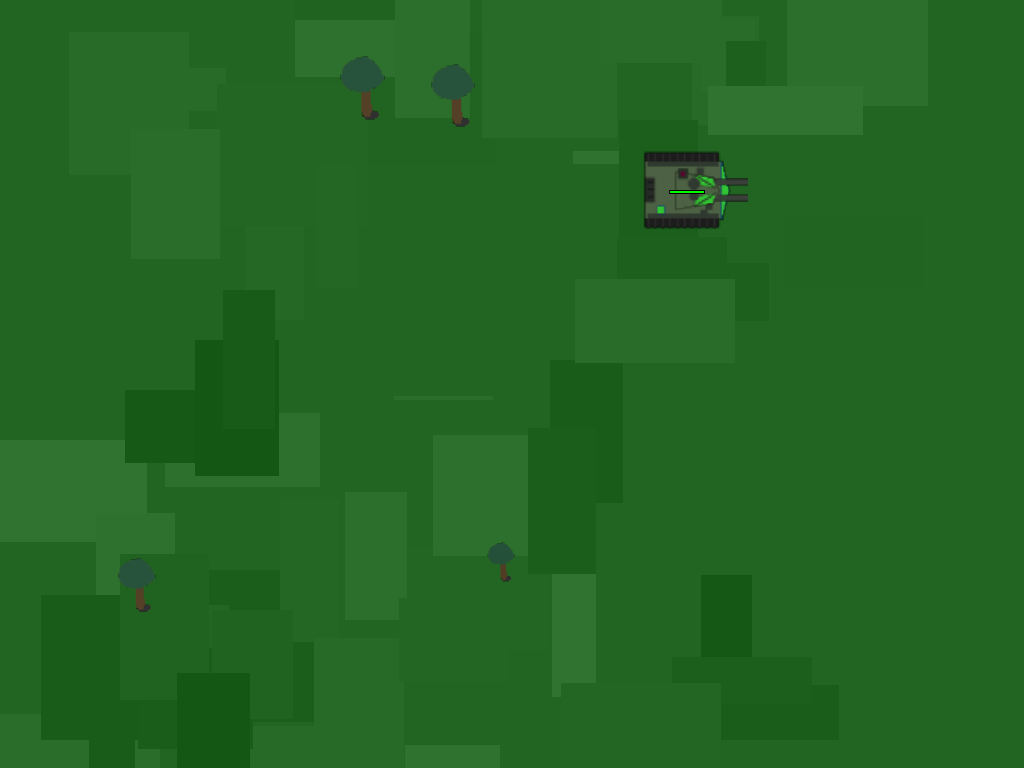Type99: (647, 148, 727, 228)
